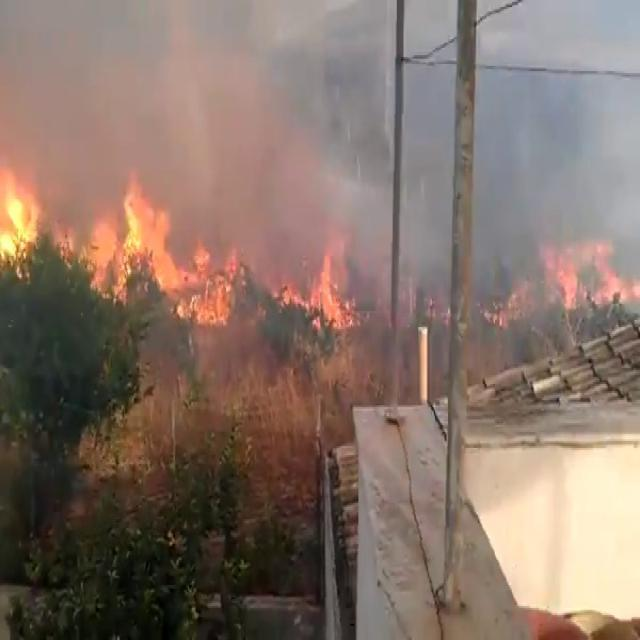Fire: (0, 152, 237, 318), (542, 230, 640, 324), (274, 233, 361, 336), (0, 159, 40, 278)
Smoke: (0, 0, 640, 267)
